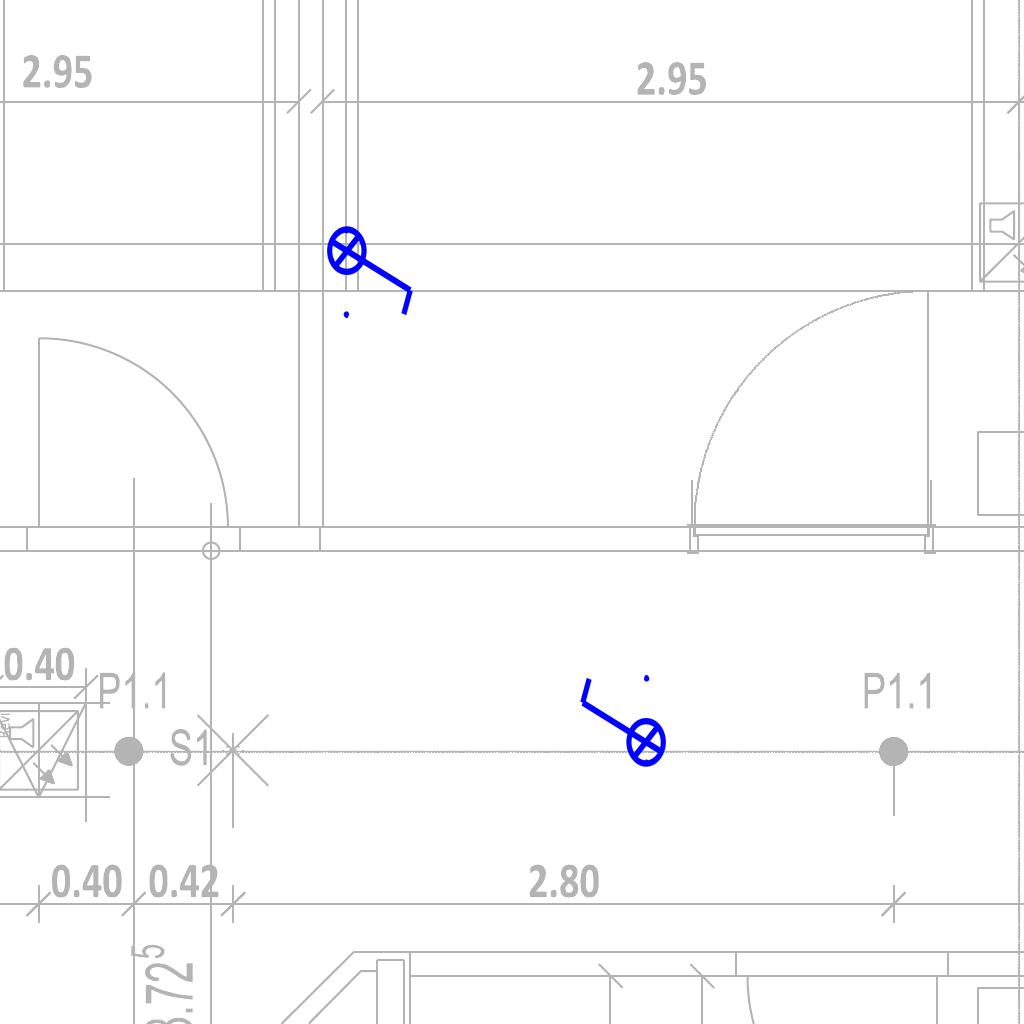Ausschalter_beleuchtet: (325, 212, 421, 324), (572, 669, 668, 781)
